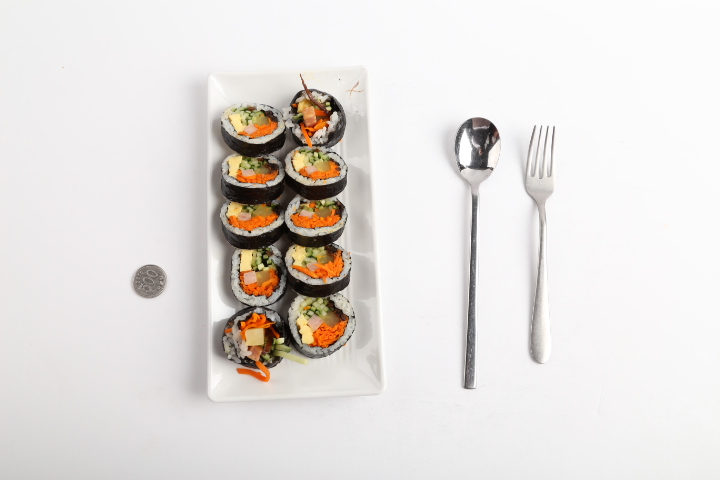dish: (208, 67, 387, 403)
ref_coin: (133, 264, 167, 298)
ref_fork: (525, 124, 555, 203)
ref_spoon: (454, 116, 501, 191)
김밥: (221, 89, 356, 369)
